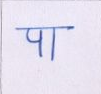aa_matra: (51, 30, 55, 62)
